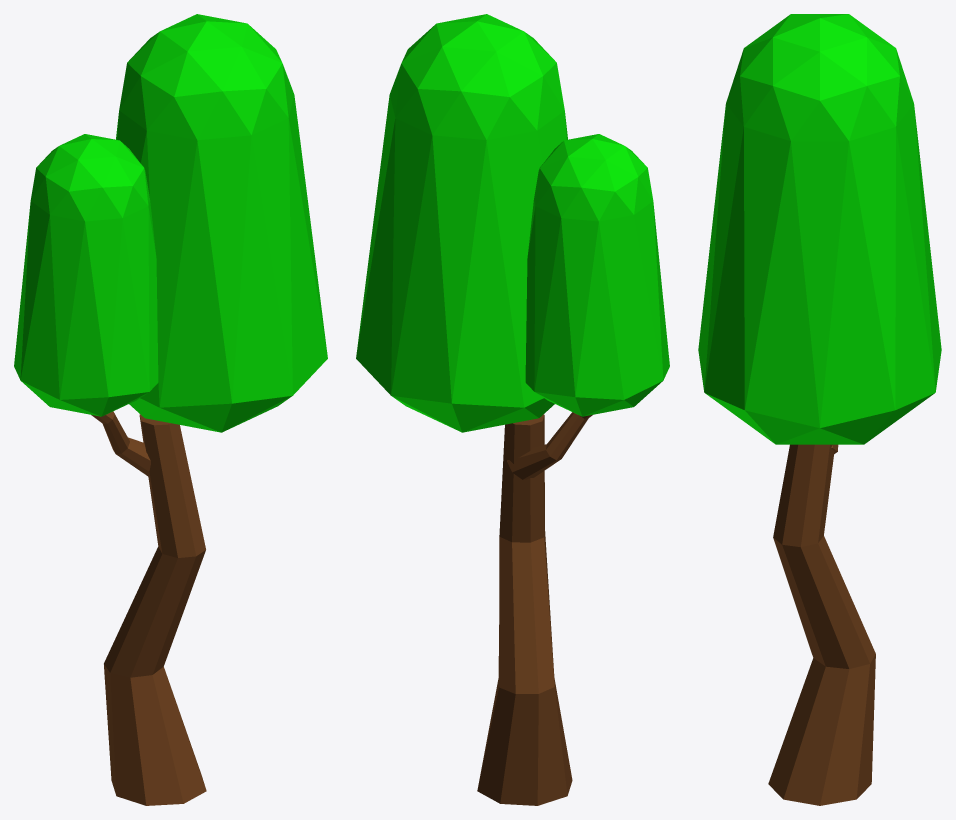
Rendered from Arbol.001(1).glb.
3 renders of one model, left to right at view 1: azimuth 30°, elevation 25°; view 2: azimuth 150°, elevation 25°; view 3: azimuth 270°, elevation 25°, orthographic. The views are drawn at different scales.
Visible parts, largest first — view 1: Arbol.001; view 2: Arbol.001; view 3: Arbol.001.
Part boxes in pixels (bbox=[...]): Arbol.001: bbox=[14, 14, 327, 805]; Arbol.001: bbox=[356, 14, 669, 805]; Arbol.001: bbox=[698, 14, 941, 805].
Size of the model in its own units: 10.78 by 27.06 by 7.55.
